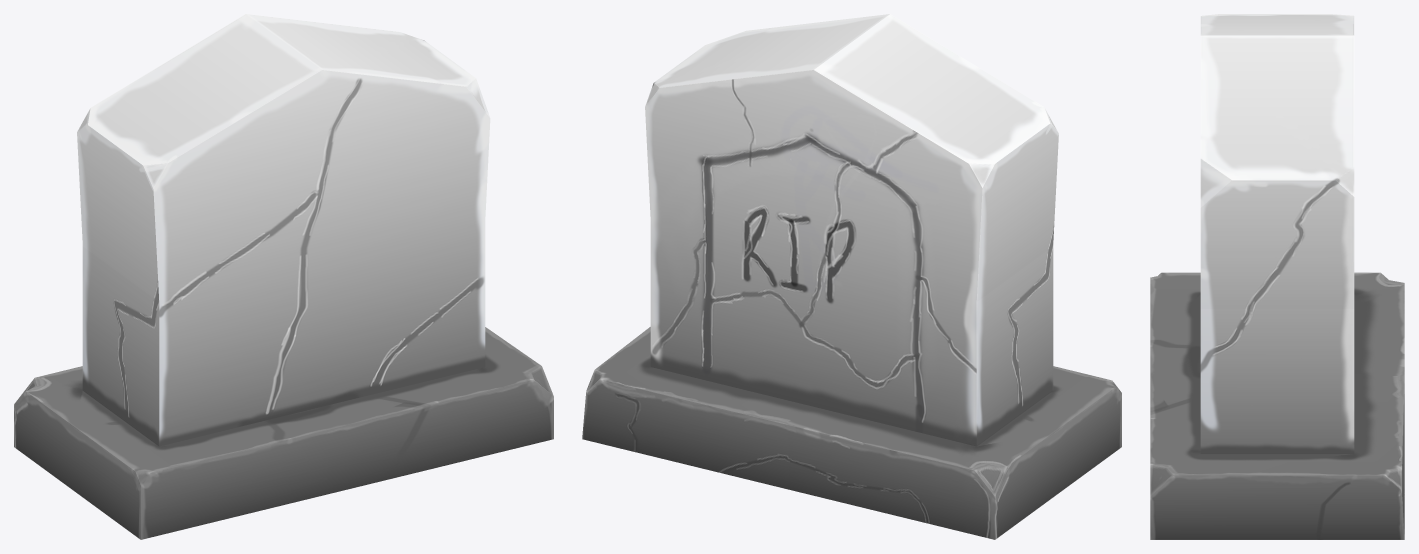
Rendered from gravestone.glb.
The picture shows the model from 3 angles, left to right: view 1: azimuth 30°, elevation 25°; view 2: azimuth 150°, elevation 25°; view 3: azimuth 270°, elevation 25°; orthographic projection.
Visible parts, largest first — view 1: Cube_0; view 2: Cube_0; view 3: Cube_0.
Part boxes in pixels (x1,y1,x2,y2): Cube_0: [14, 14, 553, 539]; Cube_0: [582, 14, 1121, 539]; Cube_0: [1150, 14, 1404, 539].
Bounding box in the file's own units: 2.26 × 2.1 × 1.2.
1 material, 1 textured.
